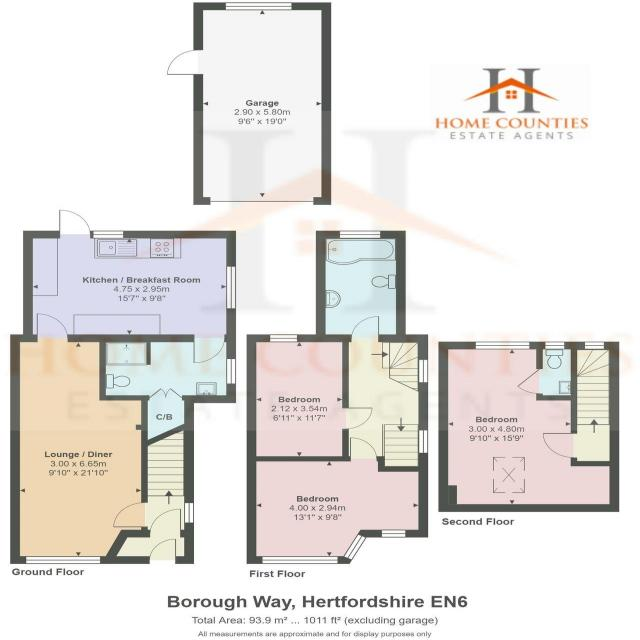DOOR: (147, 506, 184, 539), (34, 311, 72, 343), (110, 499, 149, 530), (57, 208, 93, 240), (191, 333, 227, 365), (165, 48, 204, 76), (145, 535, 179, 566), (541, 432, 578, 460), (350, 314, 381, 344), (348, 436, 379, 463), (341, 406, 374, 431), (515, 368, 544, 395)
ROOM: (9, 308, 150, 567), (21, 205, 238, 366), (437, 341, 620, 513), (246, 436, 429, 565), (246, 333, 374, 462)
WINDOW: (23, 555, 103, 565), (261, 555, 339, 565), (342, 533, 367, 561), (224, 1, 293, 11), (225, 265, 237, 310), (475, 341, 531, 350), (339, 230, 382, 239), (224, 358, 238, 385), (416, 429, 429, 455), (92, 230, 125, 240), (268, 333, 300, 343), (417, 359, 429, 384), (183, 502, 195, 524), (380, 529, 407, 538), (583, 341, 606, 351), (544, 341, 565, 350)
